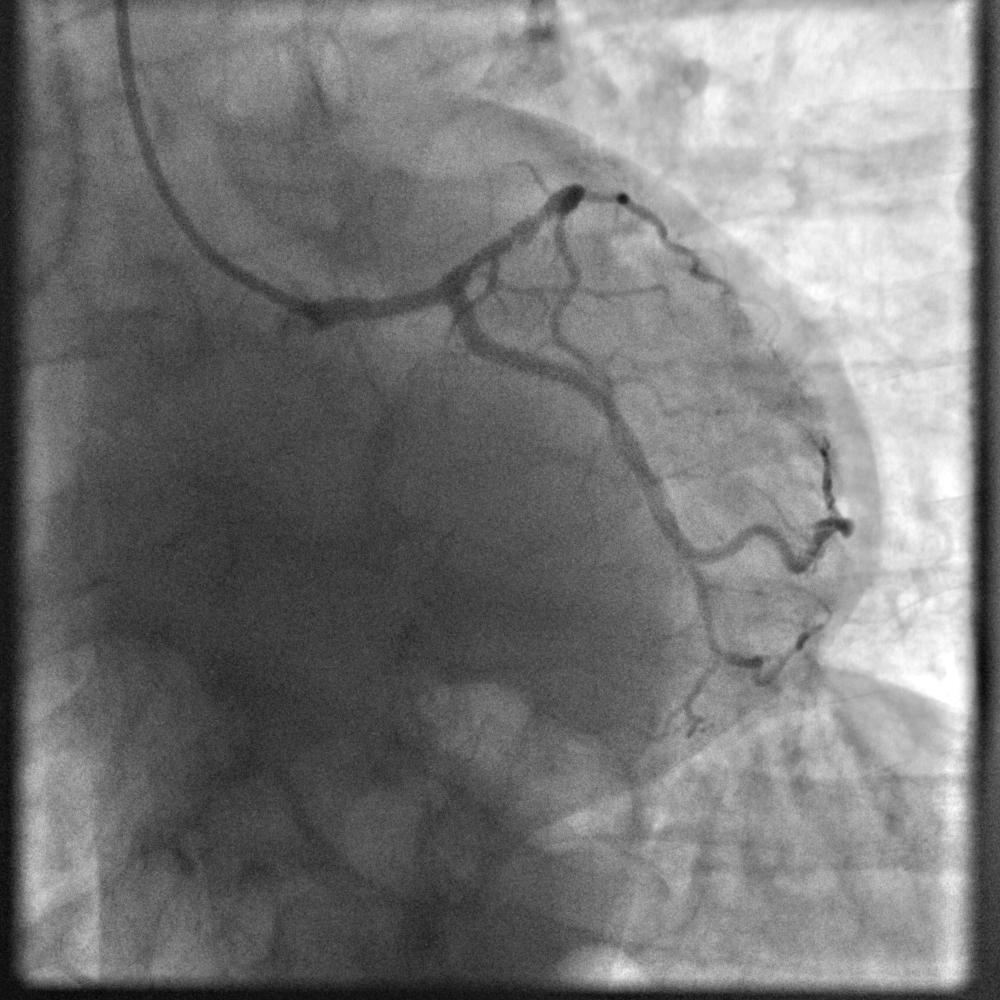Stenosis: (500, 231, 523, 246)
